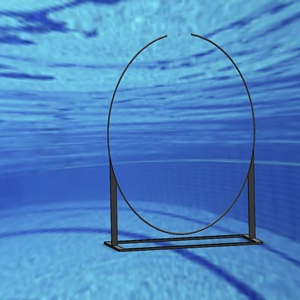circle: (103, 30, 259, 251)
